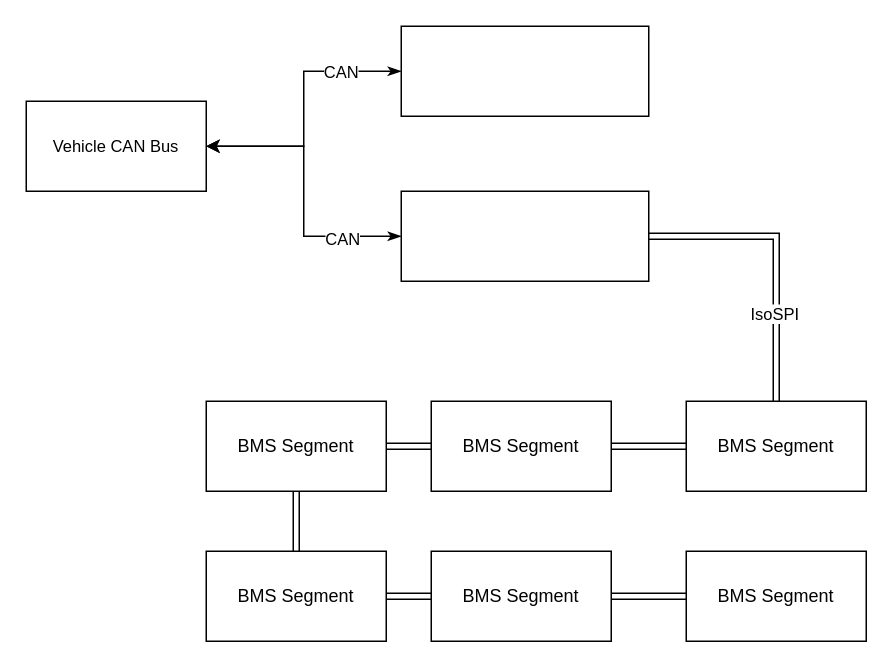
Some shapes in this 893 by 668 pixel diagram are drawn without their labels. Each missing label, with the box of its shape:
Battery Mangement System Controler: (400, 190, 649, 281)
High Voltage Controller: (400, 25, 649, 116)
